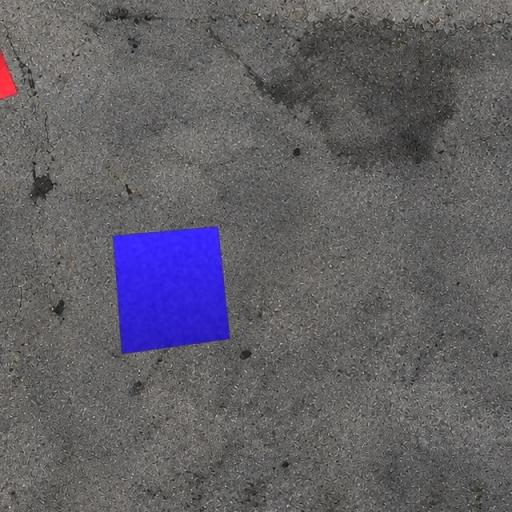BLUE_SQUARE: (112, 226, 230, 355)
